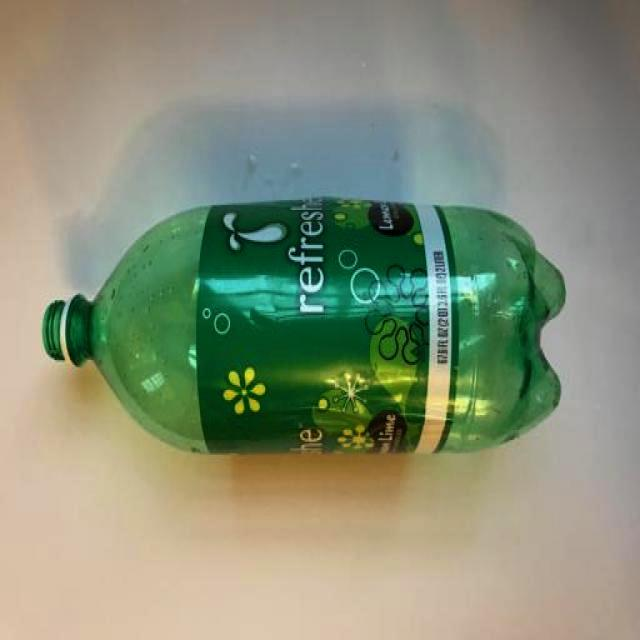bottle: (41, 195, 567, 454)
